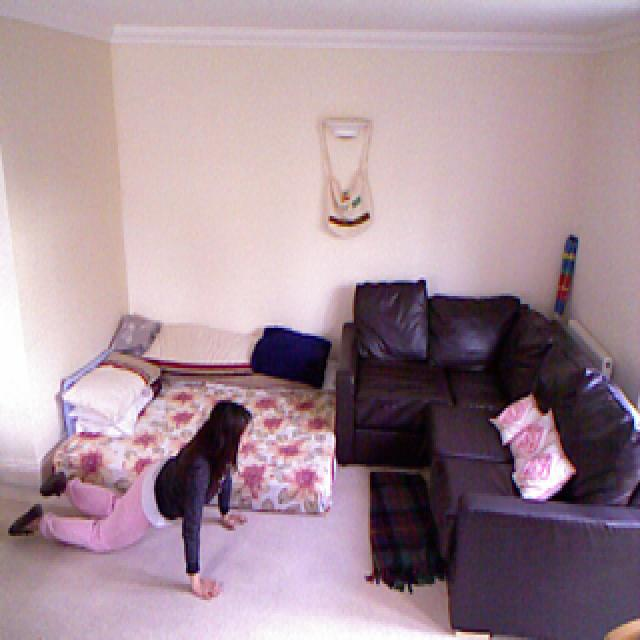crawling: (2, 390, 275, 592)
